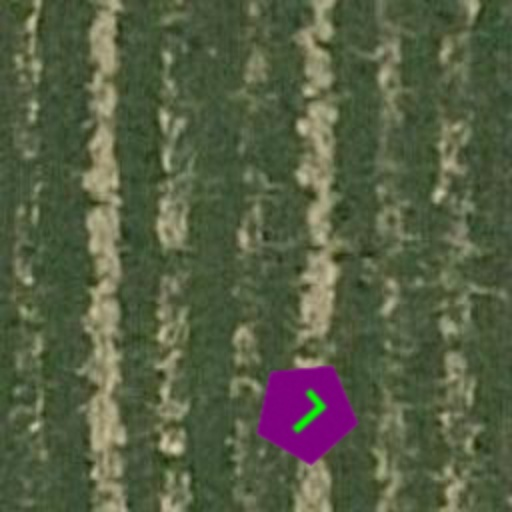pentagon: (228, 334, 384, 490)
